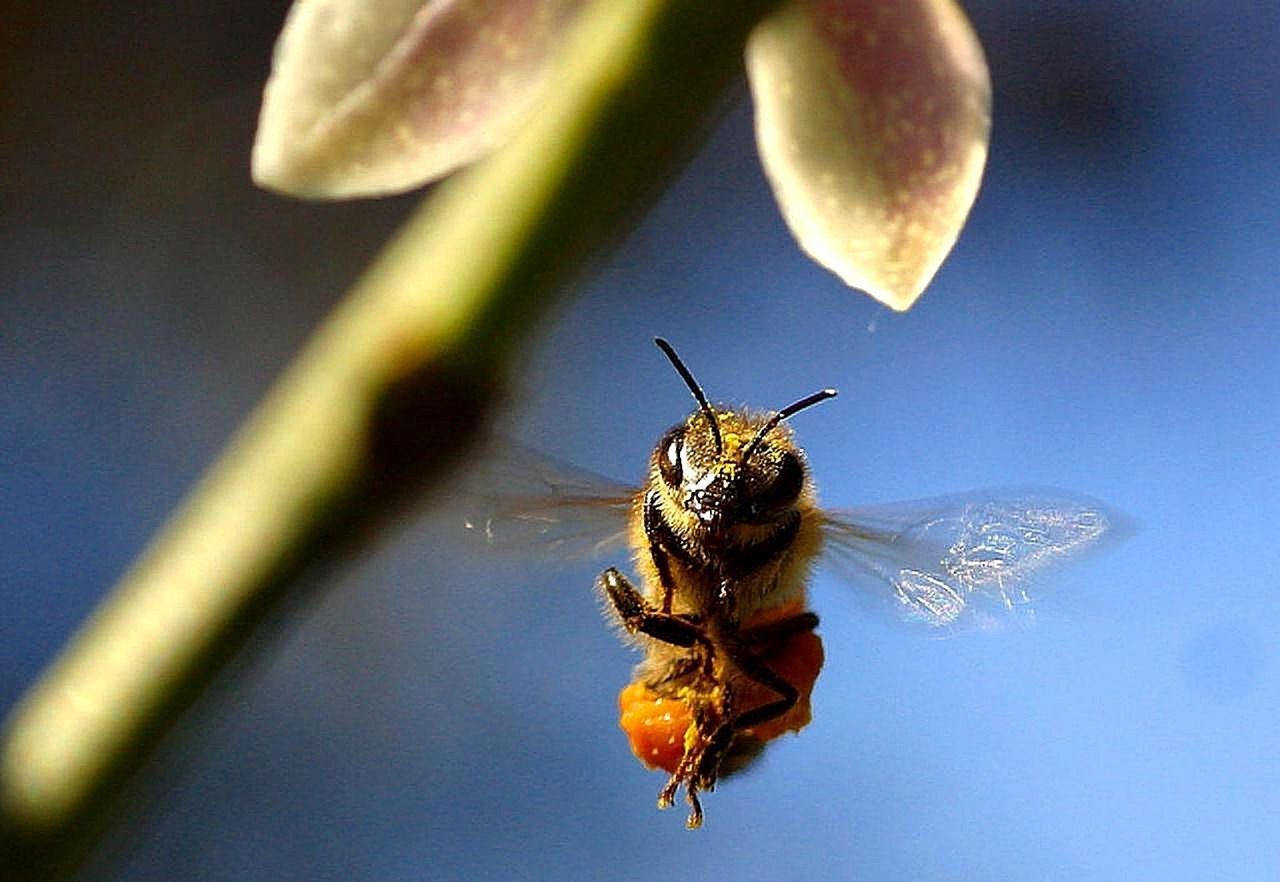insect: (446, 339, 1106, 824)
